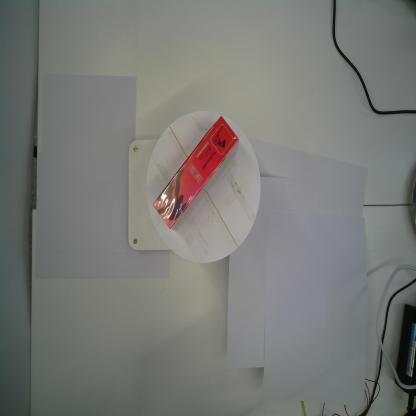Instant Drink: (152, 115, 240, 231)
